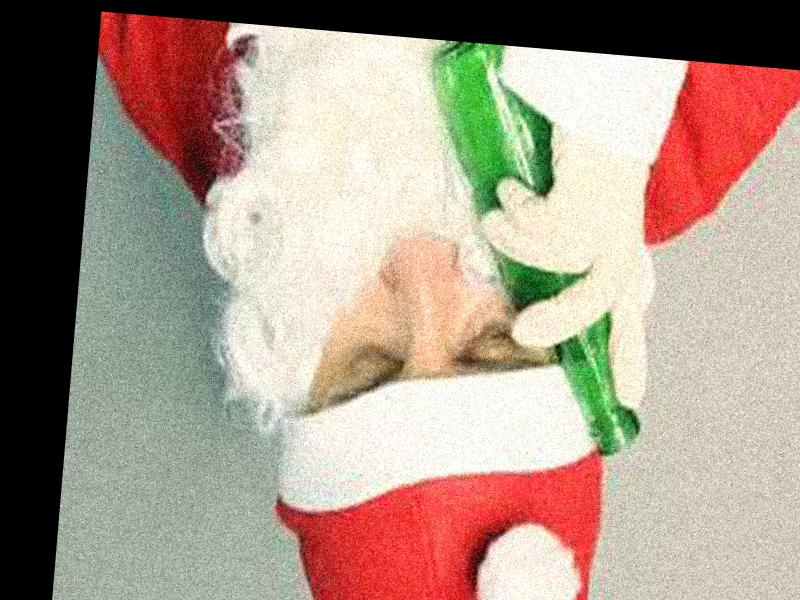Beer: (406, 39, 673, 454)
